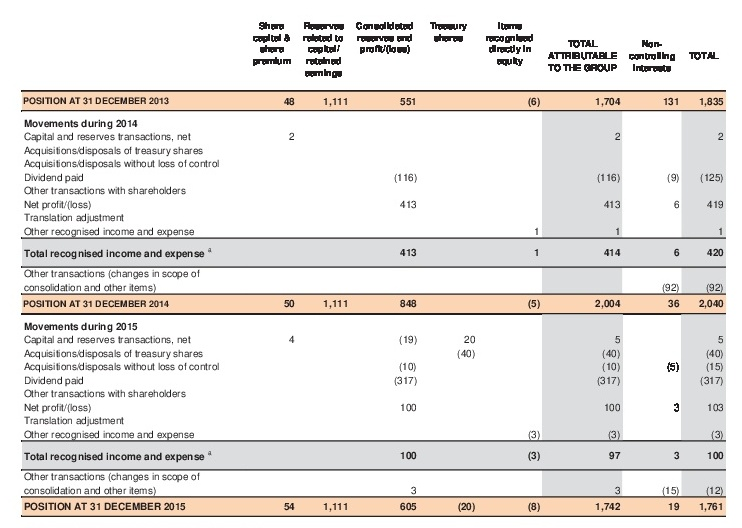table: (0, 0, 742, 528)
